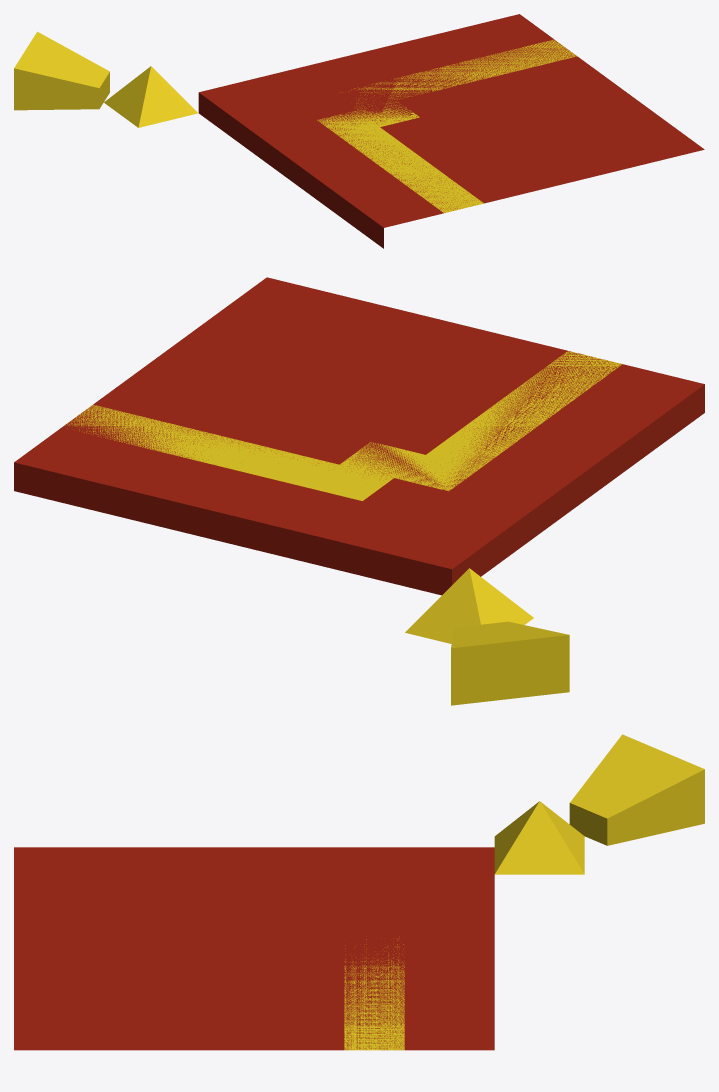
3 renders of one model, top to bottom at view 1: azimuth 30°, elevation 25°; view 2: azimuth 150°, elevation 25°; view 3: azimuth 270°, elevation 25°, orthographic. The views are drawn at different scales.
Bounding box in the file's own units: 91 × 8 × 92.
1 material, 1 textured.
